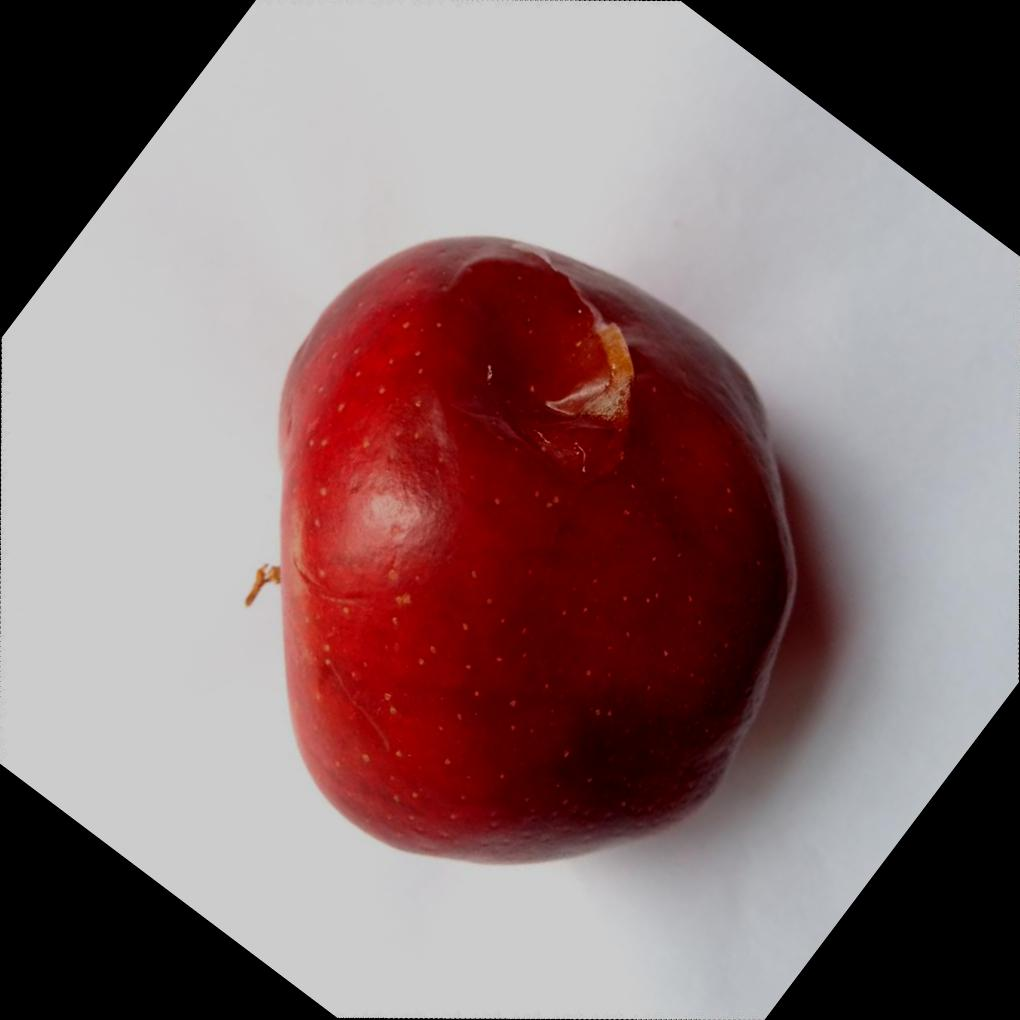FreshOrange: (252, 234, 804, 871)
